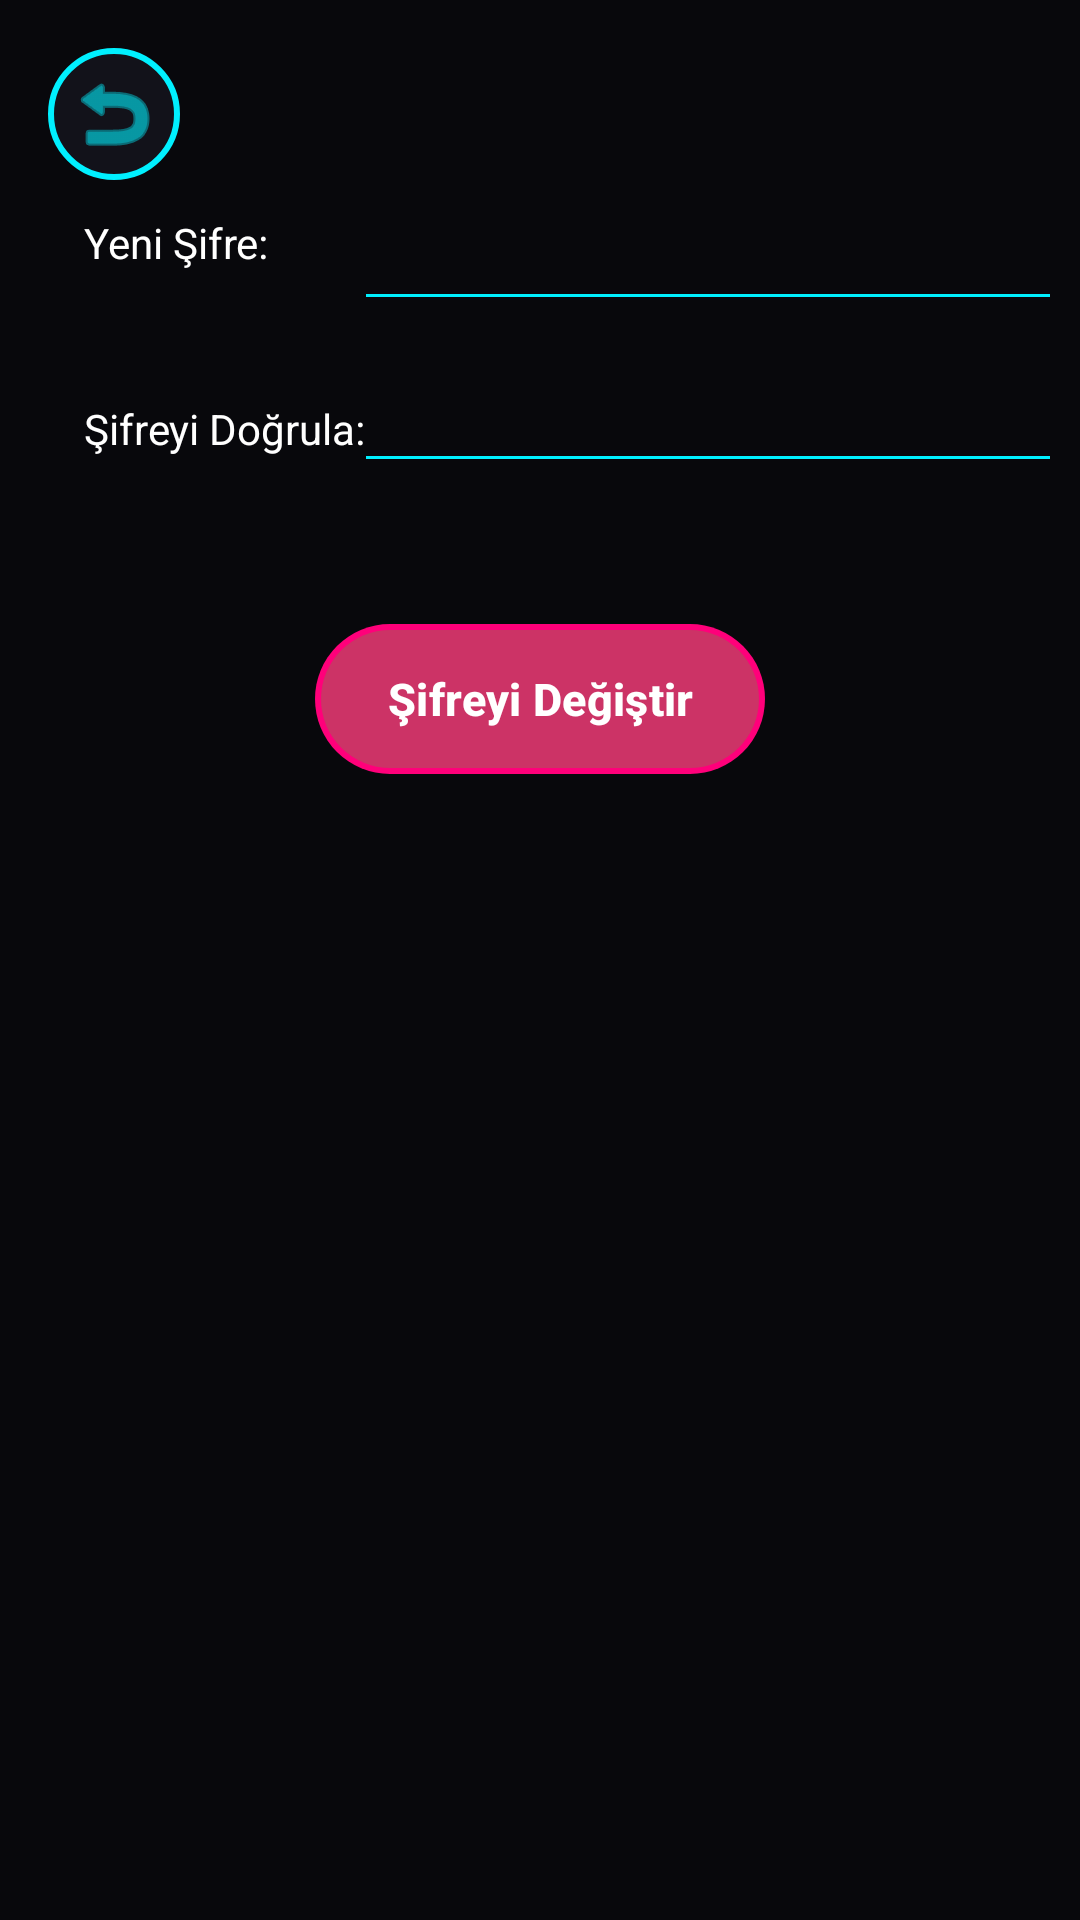

Point at icon controls on the screen. Image size 1080 × 1920, points as (x=x, y=y).
Geri Dön: (x=114, y=114)
